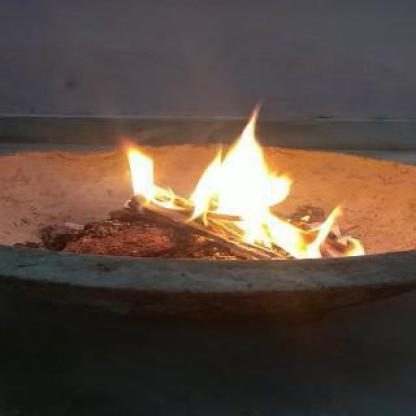Fire: (119, 114, 352, 259)
